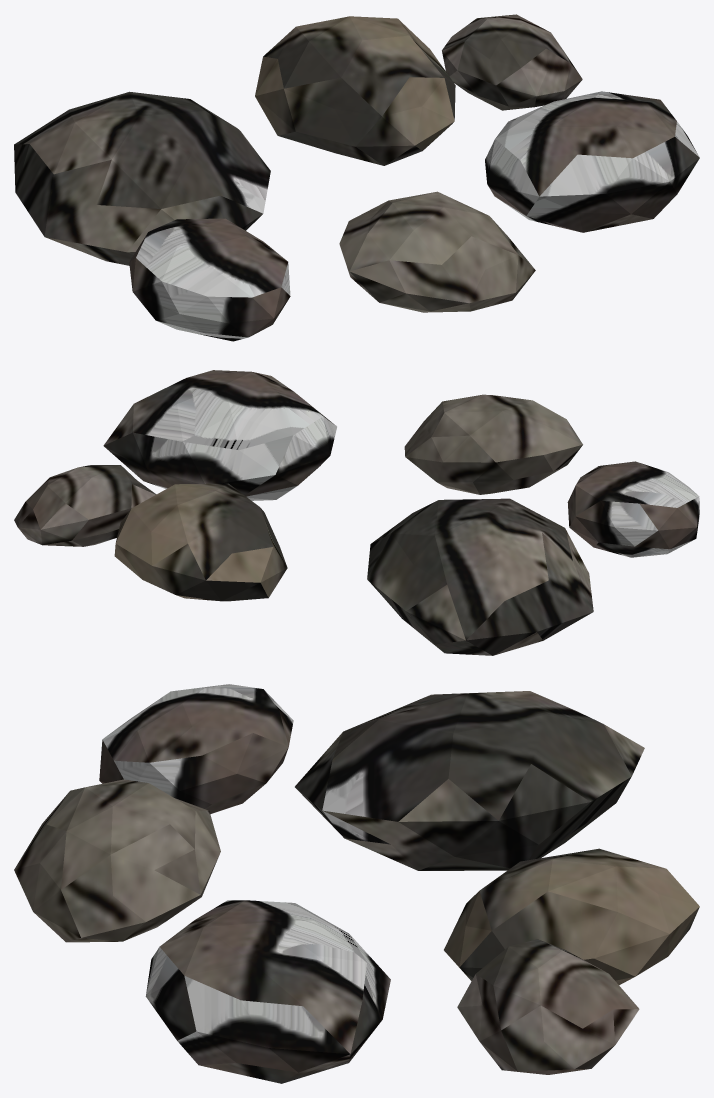
Rendered from da-nho-soi.glb.
3 renders of one model, top to bottom at view 1: azimuth 30°, elevation 25°; view 2: azimuth 150°, elevation 25°; view 3: azimuth 270°, elevation 25°, orthographic. The views are drawn at different scales.
Visible parts, largest first — view 1: Icosphere; view 2: Icosphere; view 3: Icosphere.
Part boxes in pixels (x1,y1,x2,y2): Icosphere: (14, 14, 699, 341); Icosphere: (14, 370, 699, 655); Icosphere: (14, 684, 699, 1083).
Bounding box in the file's own units: 0.3425 × 0.0773 × 0.294.
1 material, 1 textured.
